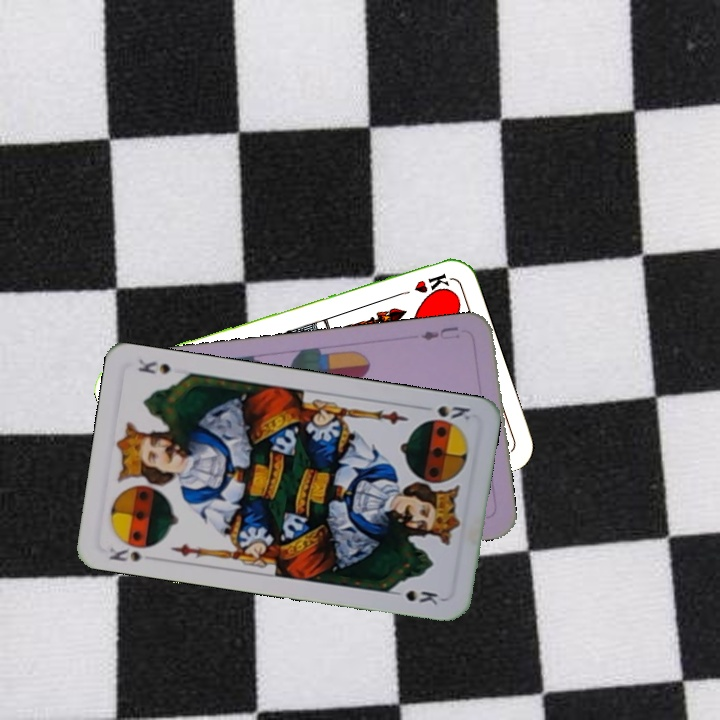EU: (417, 322, 462, 343)
HK: (393, 269, 452, 299)
SK: (105, 543, 160, 564), (433, 401, 473, 423)
